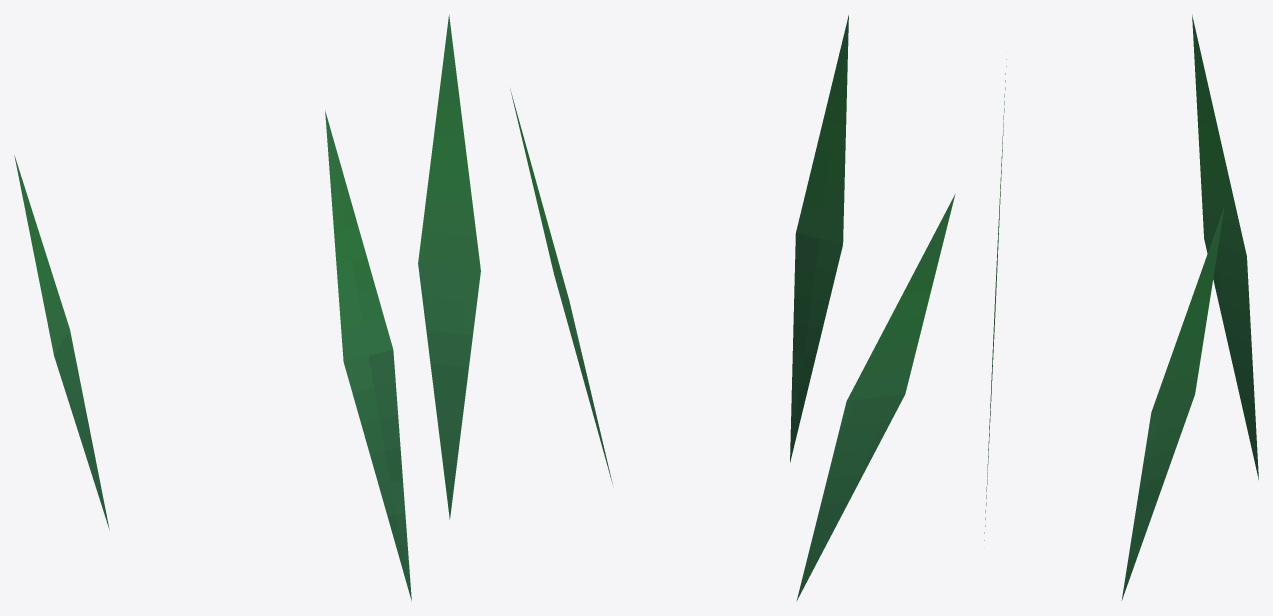
File: plants_me_main_grass51.gltf
The picture shows the model from 3 angles, left to right: view 1: azimuth 30°, elevation 25°; view 2: azimuth 150°, elevation 25°; view 3: azimuth 270°, elevation 25°; orthographic projection. The views are drawn at different scales.
Parts seen in each view (by area): view 1: plants_me_main_grass51; view 2: plants_me_main_grass51; view 3: plants_me_main_grass51.
Part boxes in pixels (x1,y1,x2,y2): plants_me_main_grass51: (14,14,480,601); plants_me_main_grass51: (510,15,955,601); plants_me_main_grass51: (984,14,1258,600).
Size of the model in its own units: 0.4252 by 0.45 by 0.24.
1 material, 1 textured.
